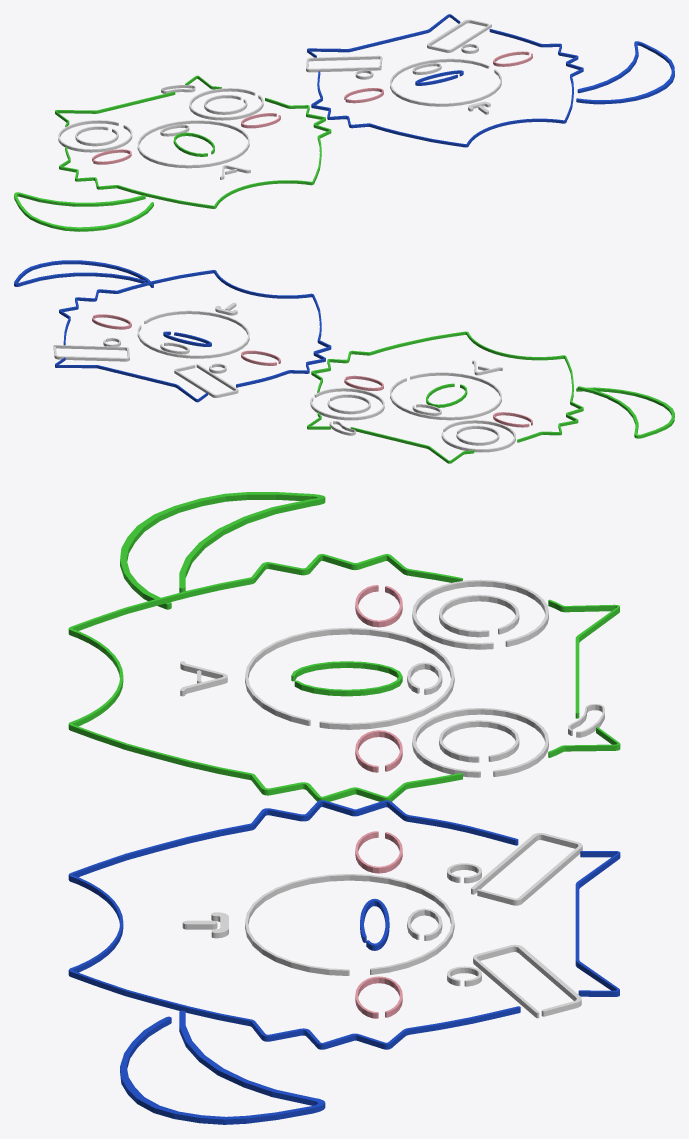
File: hakkenkoken.fbx
3 views of the same model, one above another, from view 1: azimuth 30°, elevation 25°; view 2: azimuth 150°, elevation 25°; view 3: azimuth 270°, elevation 25° (orthographic). The views are drawn at different scales.
Visible parts, largest first — view 1: body.001, body, eyeOutside, eyebrow, mouse, mouseOutside, eyeInside, cheek.001, cheek, mouseinside, mouseInside; view 2: body, body.001, eyeOutside, eyebrow, mouseOutside, mouse, eyeInside, cheek, cheek.001, mouseinside, mouseInside; view 3: body, body.001, eyeOutside, eyebrow, mouse, mouseOutside, eyeInside, mouseInside, cheek, cheek.001, eye.
Boxes of the visible parts, x1,y1,x2,y2 form: body.001: (14,75,331,231); body: (307,14,674,147); eyeOutside: (58,88,263,152); eyebrow: (306,19,491,72); mouse: (137,120,249,168); mouseOutside: (390,58,501,106); eyeInside: (75,95,247,146); cheek.001: (92,113,280,164); cheek: (344,51,532,103); mouseinside: (415,70,463,85); mouseInside: (173,132,214,156); body: (14,260,331,402); body.001: (307,331,674,463); eyeOutside: (310,388,515,452); eyebrow: (53,345,238,397); mouseOutside: (137,310,249,358); mouse: (390,372,501,420); eyeInside: (327,394,499,445); cheek: (92,314,280,365); cheek.001: (344,375,532,427); mouseinside: (163,331,211,346); mouseInside: (426,383,467,407); body: (68,800,620,1124); body.001: (68,492,620,801); eyeOutside: (412,579,548,777); eyebrow: (471,833,582,1018); mouse: (245,627,454,729); mouseOutside: (245,874,454,975); eyeInside: (439,594,519,762); mouseInside: (291,661,402,696); cheek: (355,831,402,1018); cheek.001: (355,585,402,772); eye: (447,863,481,986).
Bounding box in the file's own units: 504 × 7.73 × 187.
